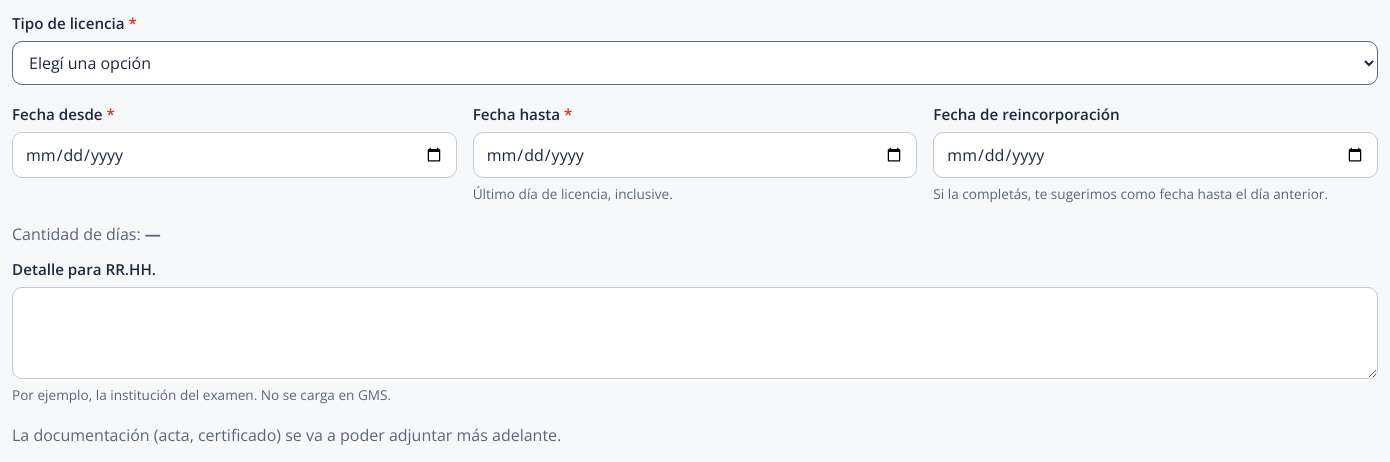
Test: formularios › licencia especial calcula los días y sugiere la fecha hasta desde la reincorporación
Step 1. Type "2026-12-01" into the date field labelled "Fecha desde *" → x=234, y=155, box [12,132,457,178]
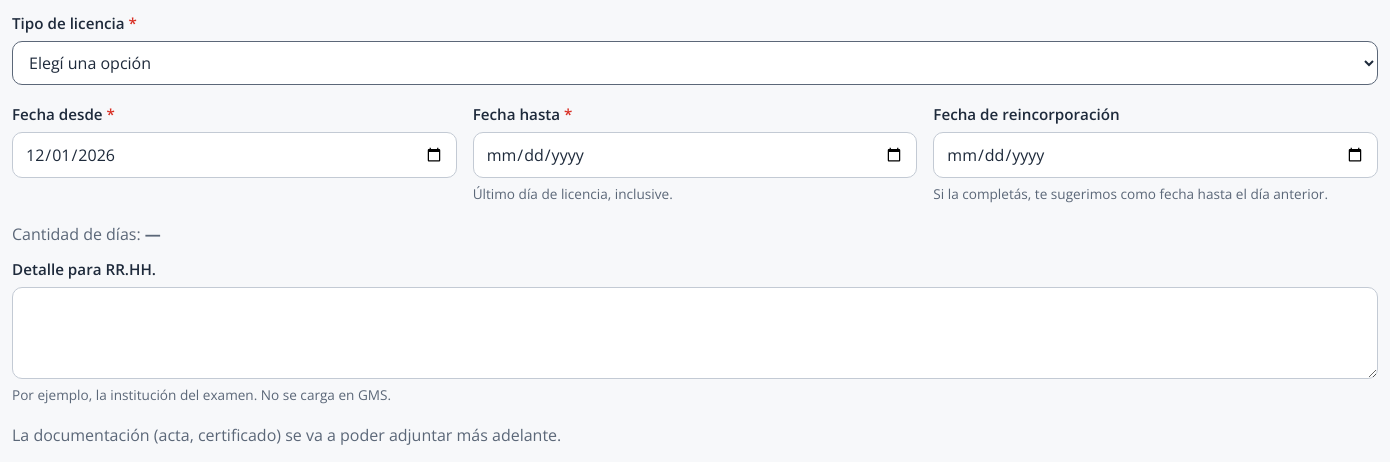
Step 2. Type "2026-12-11" into the date field labelled "Fecha de reincorporación" → x=1156, y=155, box [933,132,1378,178]
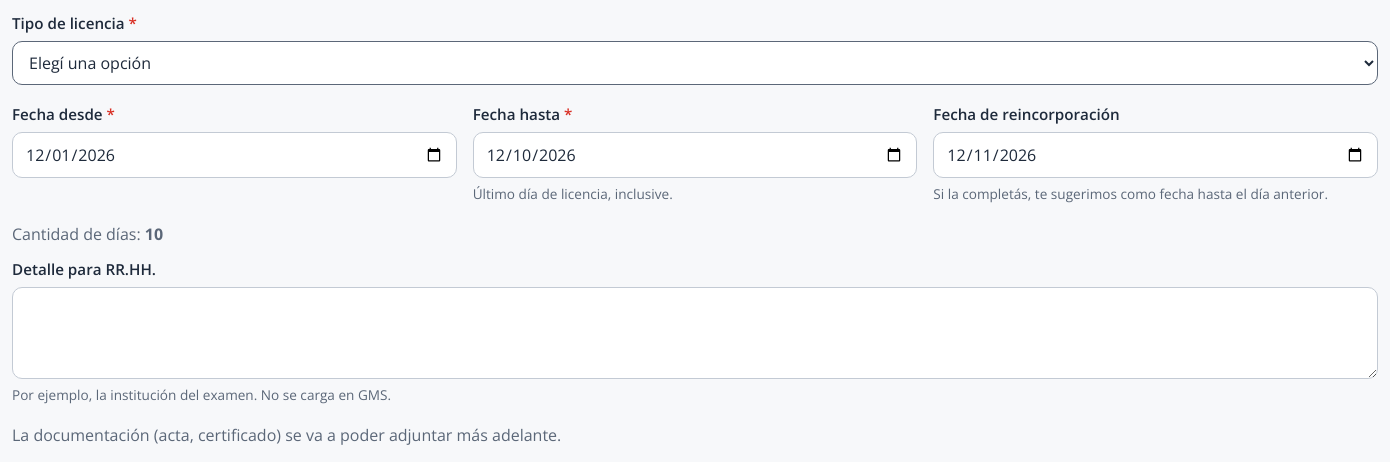
Check: the text "10" is shown, box [145,223,163,245]
